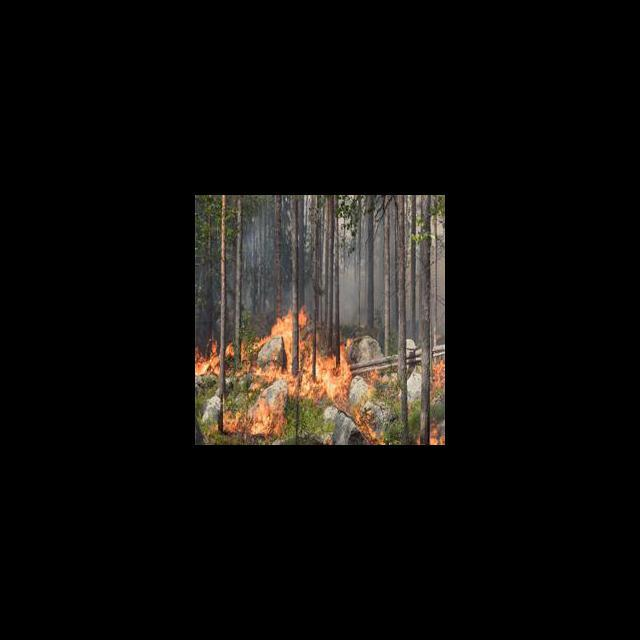Fire: (196, 301, 350, 435), (352, 372, 393, 445), (431, 358, 444, 397), (416, 426, 444, 444)
